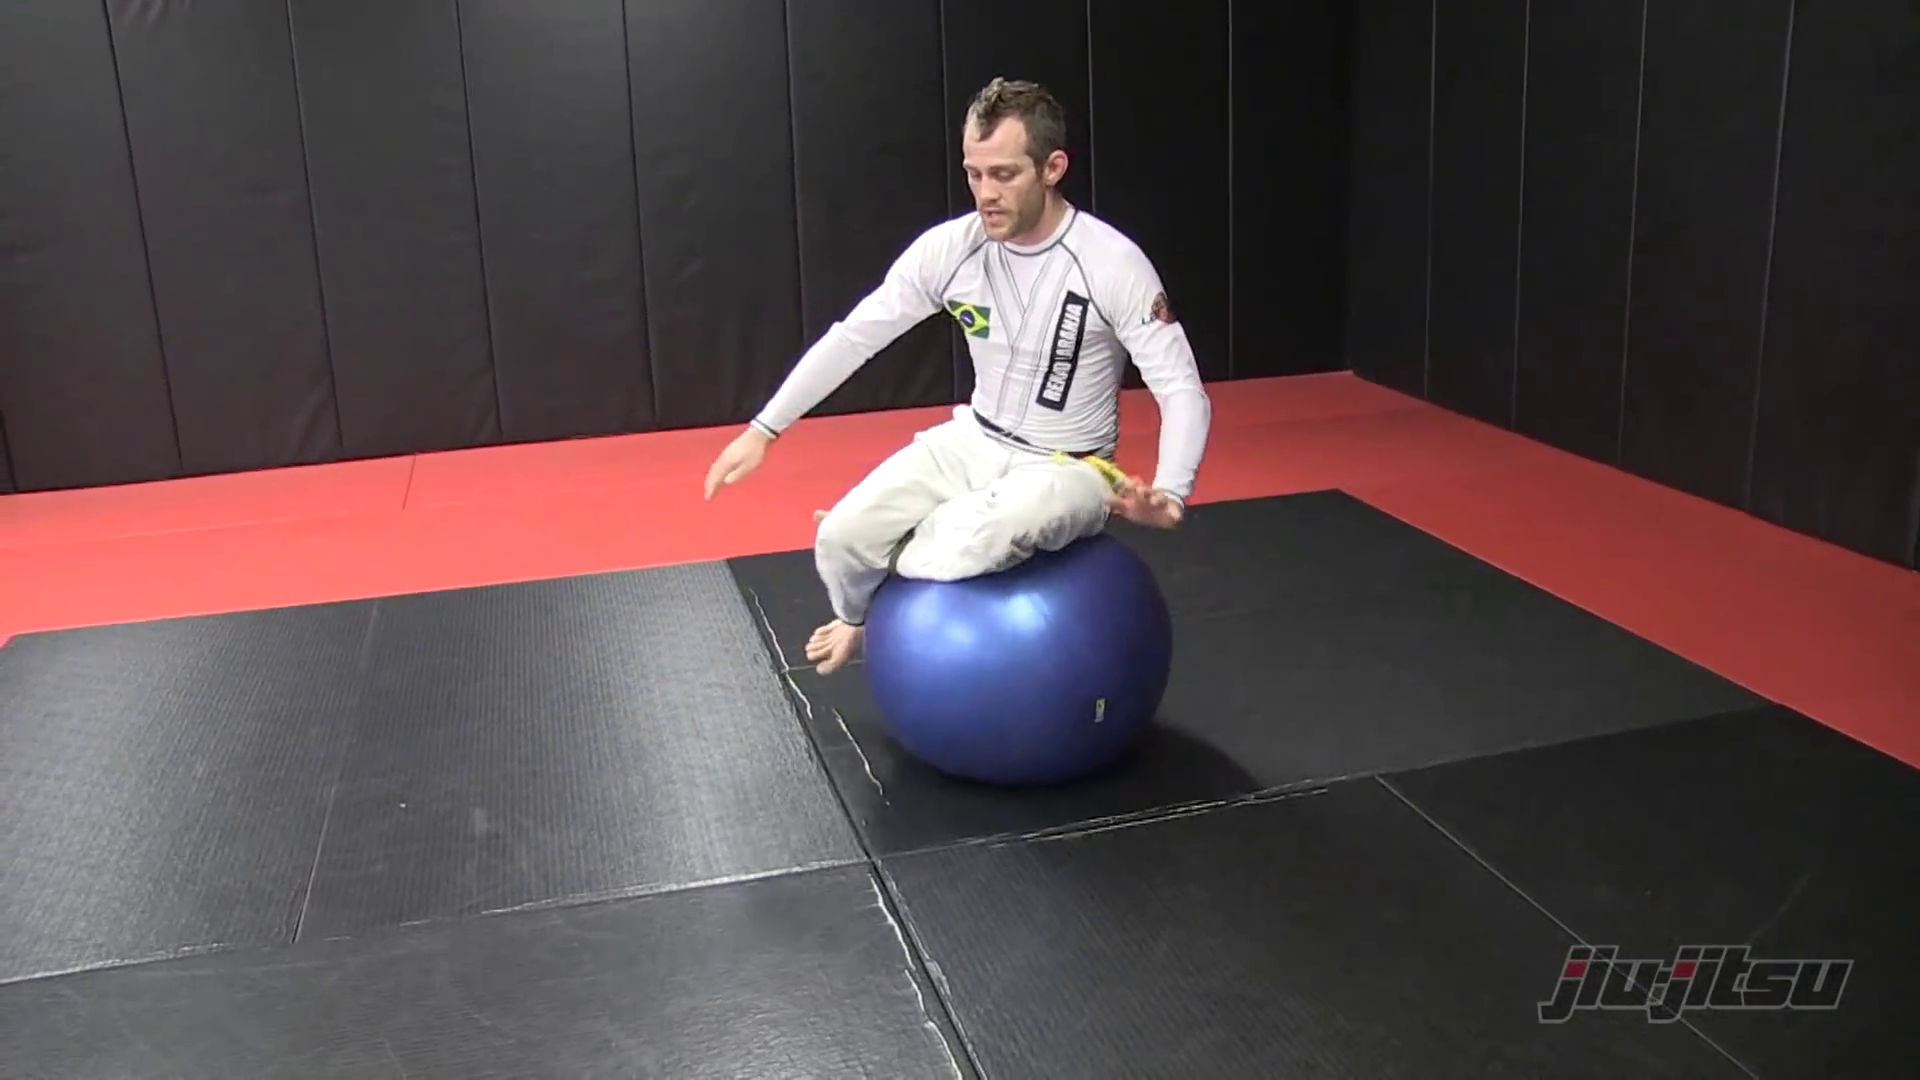yogaball: (841, 524, 1195, 819)
